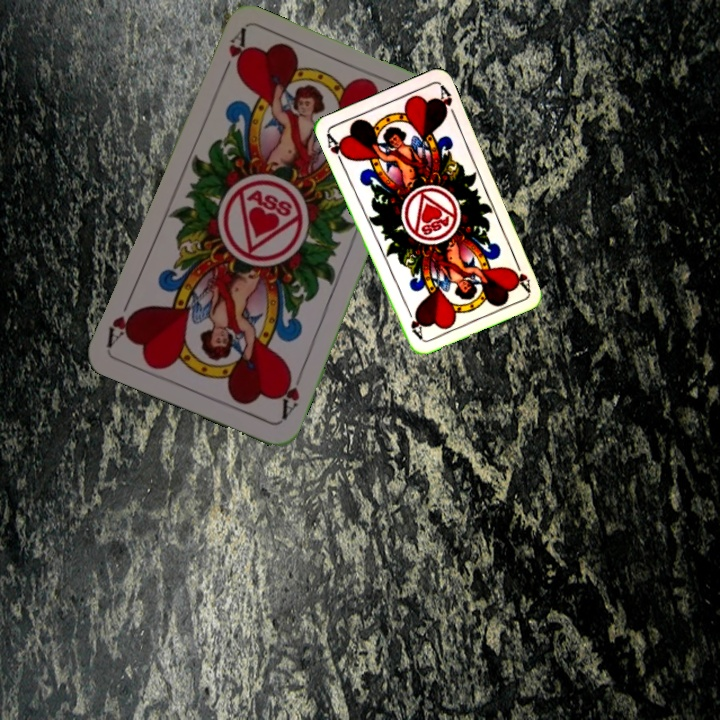HA: (216, 26, 251, 83), (276, 366, 306, 423), (322, 130, 351, 168), (509, 254, 533, 294)
